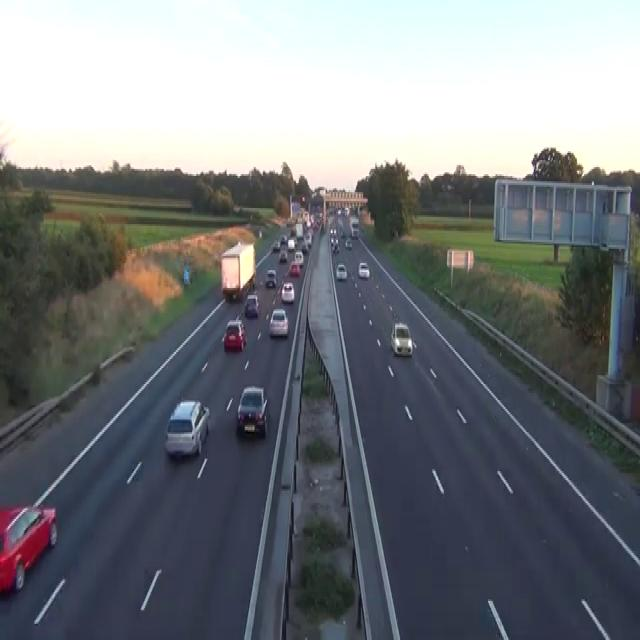Car: (0, 503, 57, 594), (164, 398, 210, 457), (236, 386, 268, 437), (222, 318, 246, 350), (390, 322, 412, 356), (269, 308, 289, 336), (244, 294, 259, 316), (281, 281, 294, 302), (265, 268, 277, 286), (358, 261, 369, 279), (335, 263, 347, 279), (330, 236, 340, 252), (289, 262, 300, 276), (295, 250, 303, 266), (287, 237, 296, 250), (278, 249, 287, 261), (286, 217, 296, 227), (344, 238, 352, 249), (272, 240, 280, 251), (351, 226, 358, 238), (301, 240, 307, 252), (280, 233, 287, 243), (330, 228, 337, 236), (292, 237, 297, 247), (344, 206, 349, 215), (258, 228, 262, 238), (337, 208, 342, 215), (340, 230, 345, 237)
Truck: (220, 240, 256, 300), (350, 217, 358, 238)
